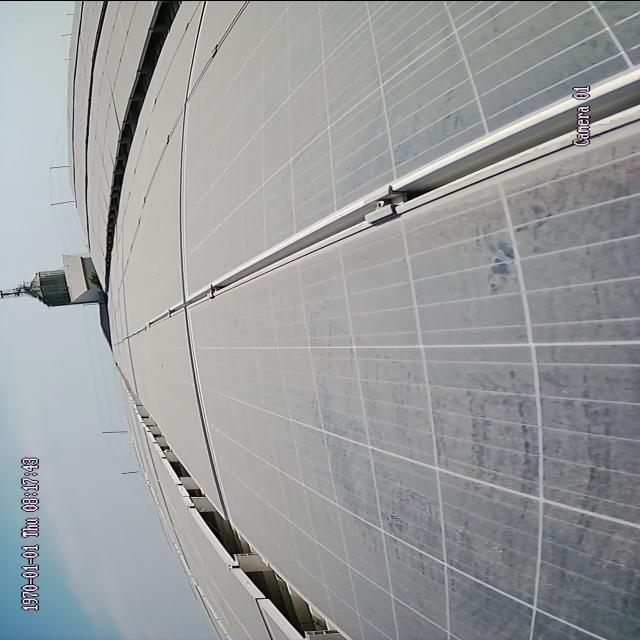interior panel: (143, 71, 640, 329), (169, 321, 235, 492), (171, 39, 200, 294)
outher panel: (137, 426, 350, 634), (105, 8, 193, 227)
